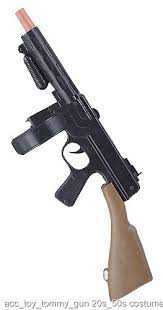Arma Falsa: (12, 6, 157, 300)
